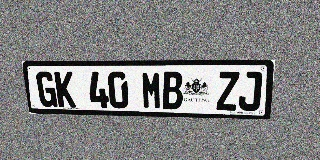0: (107, 72, 129, 109)
4: (87, 72, 109, 108)
B: (162, 72, 183, 110)
G: (35, 71, 58, 107)
J: (238, 72, 263, 111)
K: (54, 71, 76, 108)
M: (141, 72, 162, 109)
Z: (216, 72, 239, 111)
